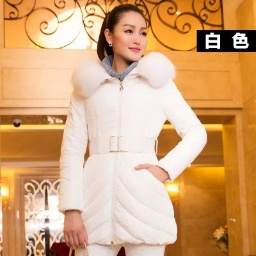face: (98, 4, 148, 65)
